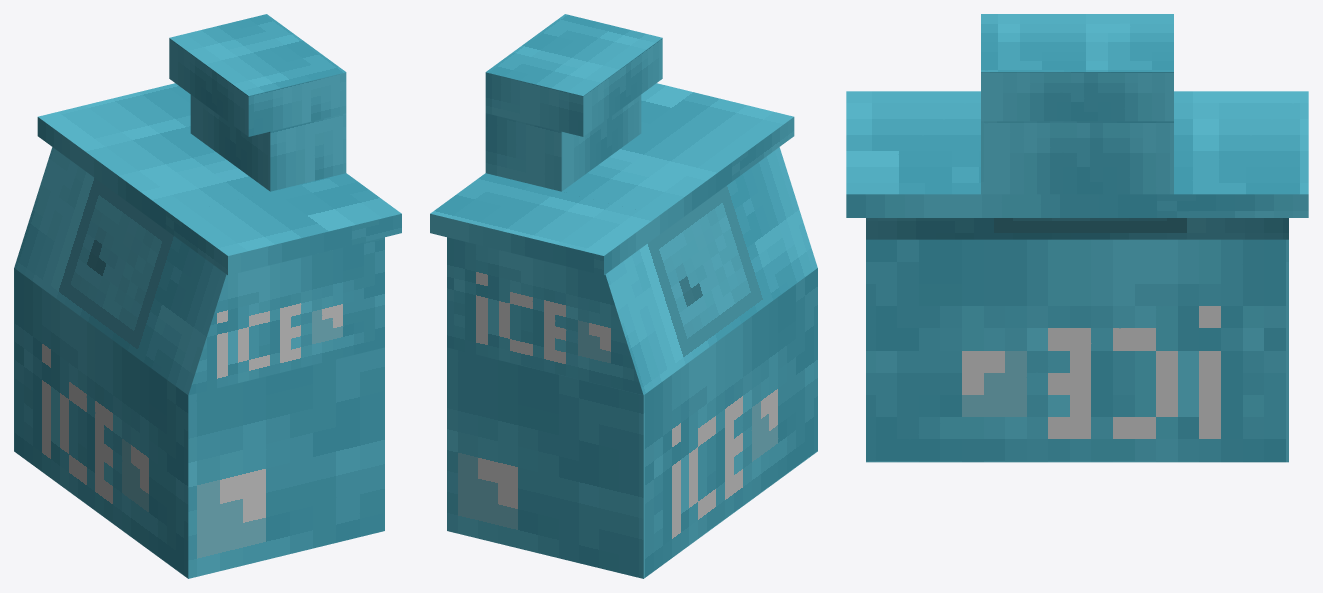
Rendered from BGN_COOLER.fbx.
3 views of the same model, side by side, from view 1: azimuth 30°, elevation 25°; view 2: azimuth 150°, elevation 25°; view 3: azimuth 270°, elevation 25° (orthographic). The views are drawn at different scales.
Parts seen in each view (by area): view 1: BGN_COOLER; view 2: BGN_COOLER; view 3: BGN_COOLER.
Part boxes in pixels (x1,y1,x2,y2): BGN_COOLER: (14,14,401,578); BGN_COOLER: (430,14,817,578); BGN_COOLER: (846,14,1308,462).
Size of the model in its own units: 167 by 328 by 268.
Materials: 1 (1 with a texture image).
